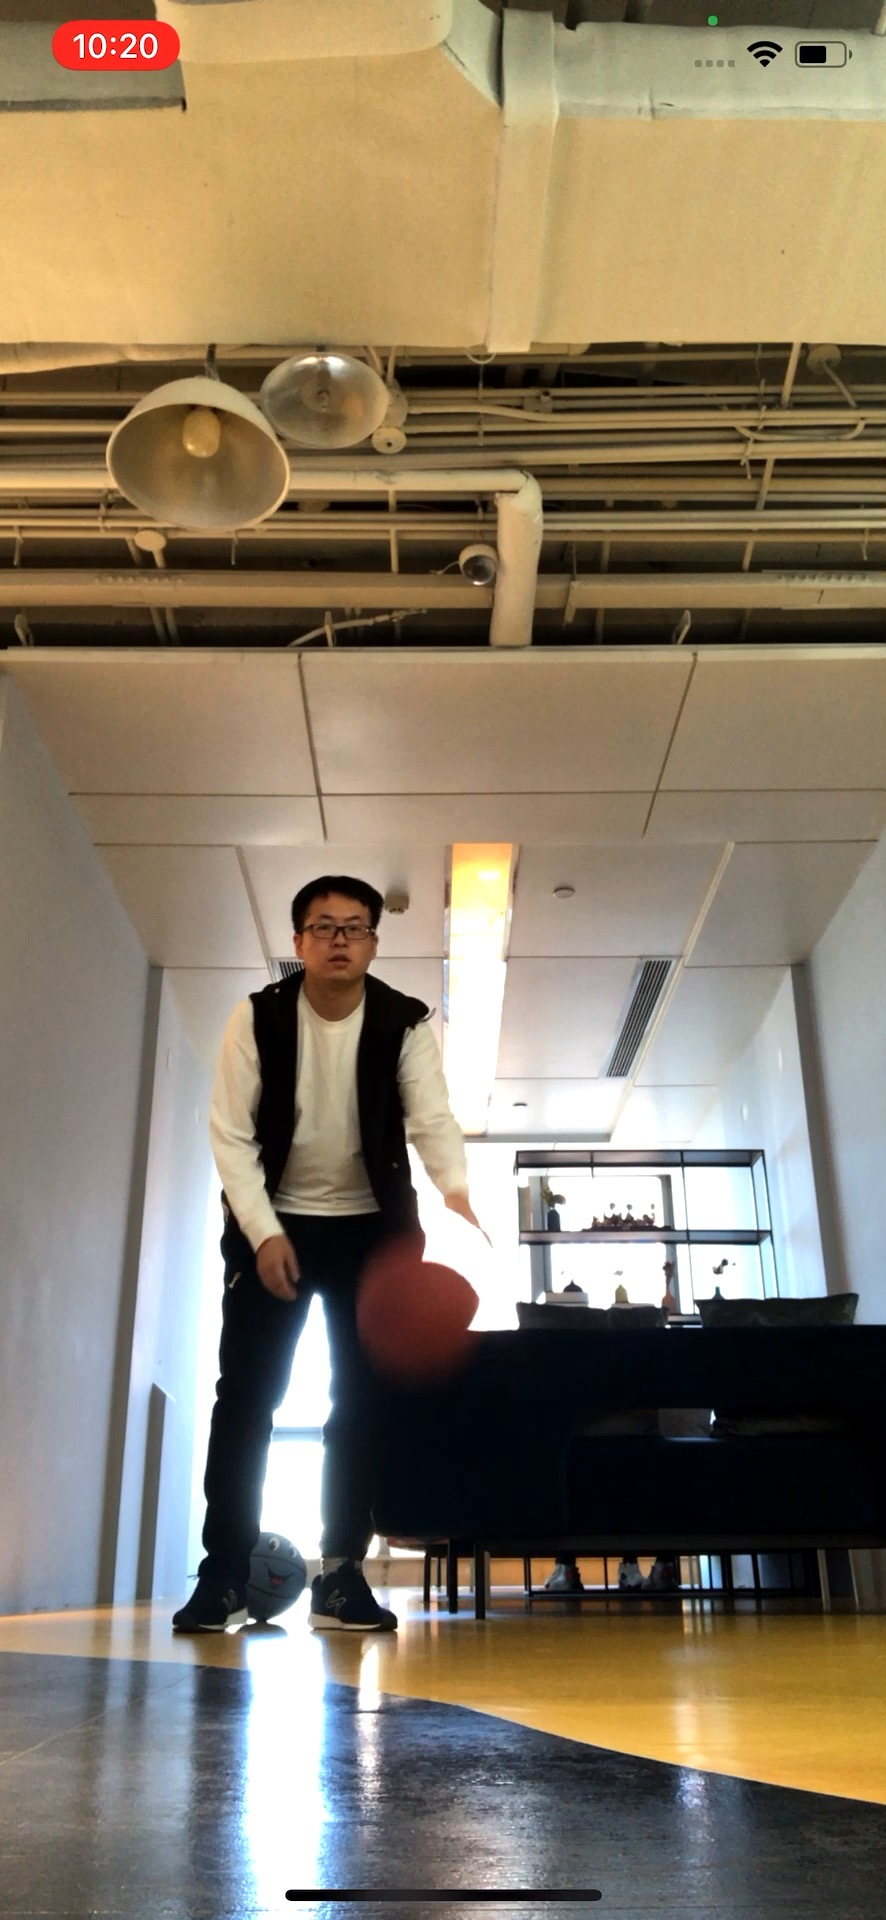ball: (361, 1255, 485, 1371)
